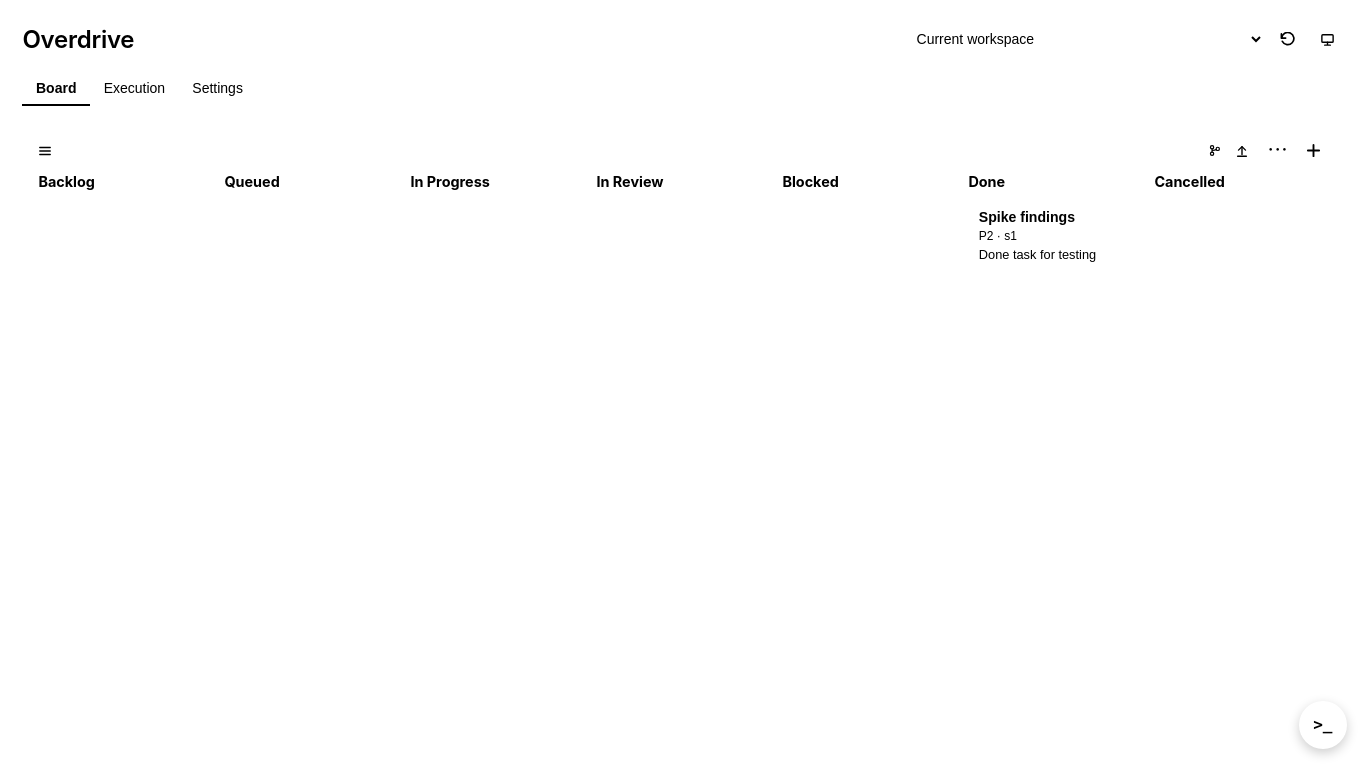
Test: Generate Follow-Up Tasks › shows Generate Follow-Up Tasks button for done spike task
Click the text "Spike findings" at (1027, 217), box 979,209 -> 1075,225
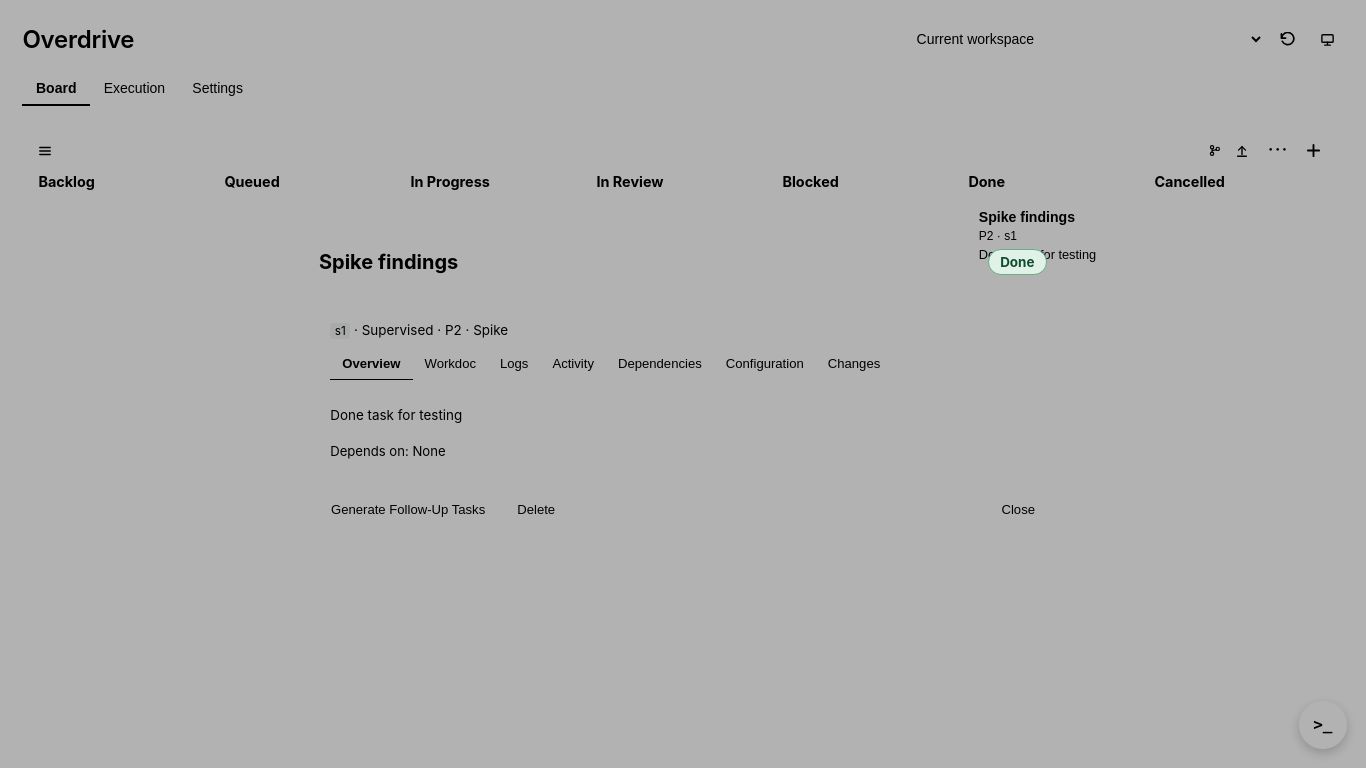
Expected: the button "Generate Follow-Up Tasks" is shown, 319,496 -> 497,525
